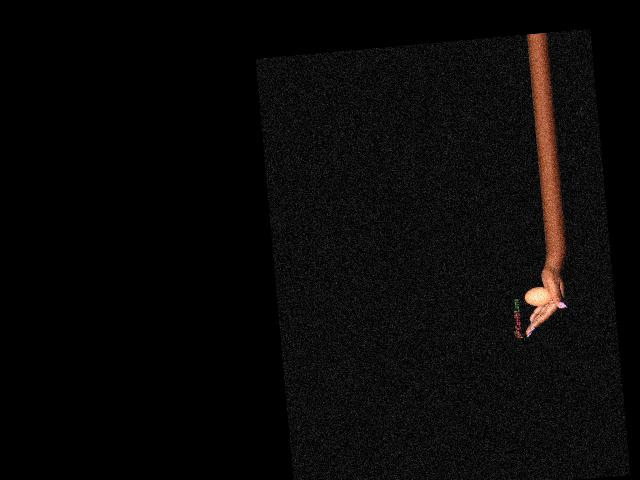egg: (523, 285, 551, 307)
